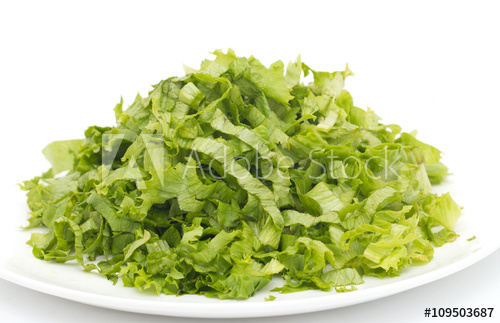chopped lettuce: (21, 54, 484, 308)
